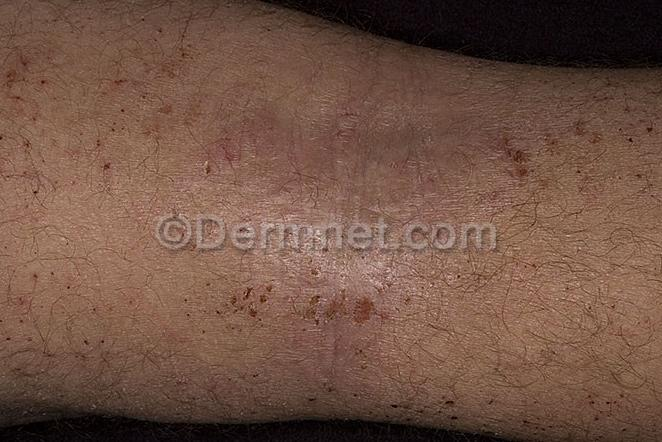eritema 1: (202, 69, 509, 396)
exudacion 1: (0, 12, 662, 442)
xerosis 1: (309, 82, 596, 153)
